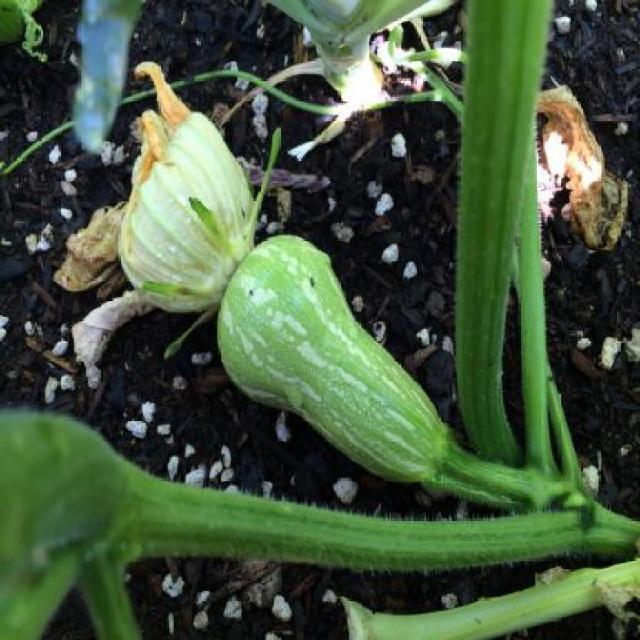Zucchini: (222, 230, 450, 508)
